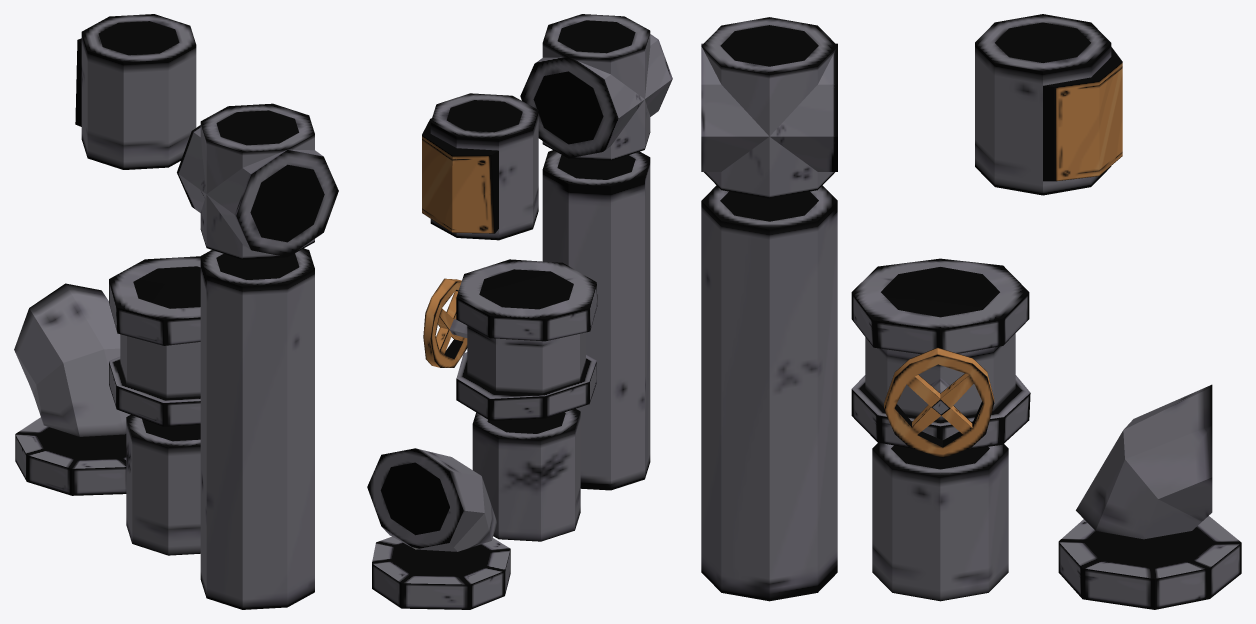
The model's file is rury1.fbx.
3 renders of one model, left to right at view 1: azimuth 30°, elevation 25°; view 2: azimuth 150°, elevation 25°; view 3: azimuth 270°, elevation 25°, orthographic. The views are drawn at different scales.
Visible parts, largest first — view 1: rura1.001, rura1.005, rura1.003, rura1.004, rura1.002, rura1, rura łączenie; view 2: rura1.001, rura1.004, rura1.005, rura1.003, rura1, rura1.002, rura łączenie; view 3: rura1.001, rura1.004, rura1.003, rura1.005, rura1, rura1.002, rura łączenie.
Part boxes in pixels (bbox=[...]): rura1.001: bbox=[200, 248, 314, 609]; rura1.005: bbox=[177, 103, 338, 259]; rura1.003: bbox=[75, 14, 196, 169]; rura1.004: bbox=[109, 256, 200, 426]; rura1.002: bbox=[14, 283, 130, 436]; rura1: bbox=[126, 415, 200, 555]; rura łączenie: bbox=[15, 417, 126, 495]; rura1.001: bbox=[542, 150, 650, 490]; rura1.004: bbox=[423, 259, 597, 420]; rura1.005: bbox=[520, 14, 672, 160]; rura1.003: bbox=[422, 93, 538, 240]; rura1: bbox=[472, 408, 580, 541]; rura1.002: bbox=[367, 448, 497, 551]; rura łączenie: bbox=[372, 536, 510, 609]; rura1.001: bbox=[701, 185, 837, 601]; rura1.004: bbox=[851, 258, 1030, 458]; rura1.003: bbox=[975, 14, 1122, 195]; rura1.005: bbox=[701, 17, 837, 198]; rura1: bbox=[872, 442, 1008, 601]; rura1.002: bbox=[1076, 384, 1212, 539]; rura łączenie: bbox=[1058, 516, 1241, 609].
Size of the model in its own units: 60.5 by 171 by 158.
